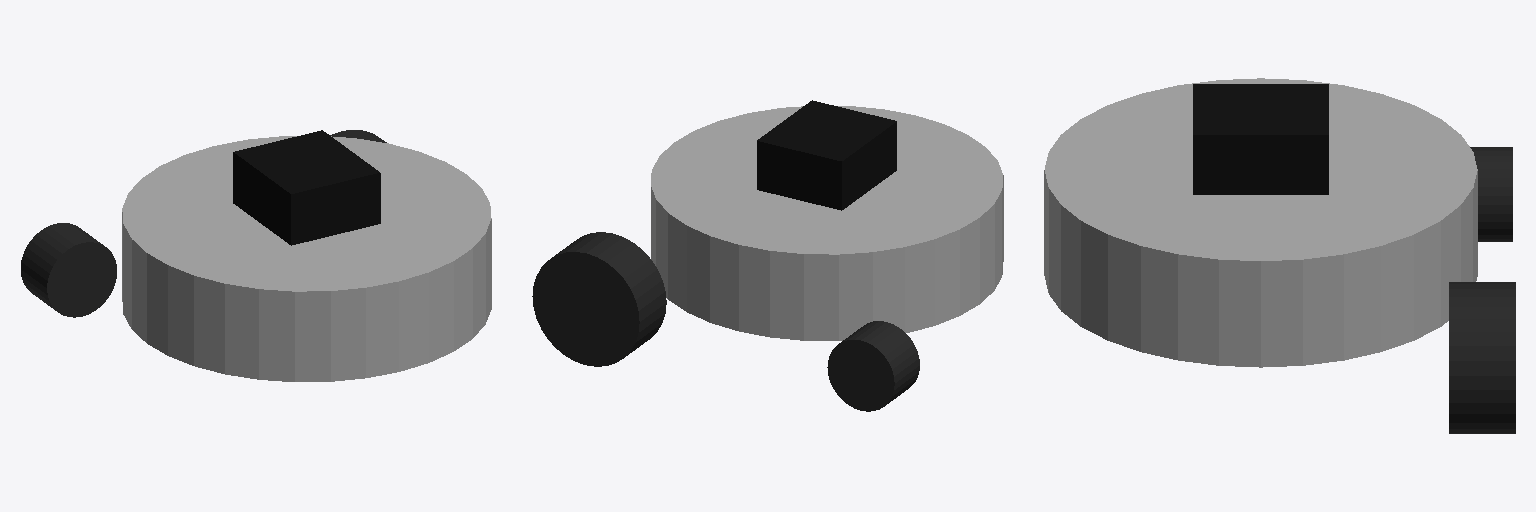
URDF robot description (evolved_robot):
<?xml version="1.0"?>
<robot name="evolved_robot">
  <material name="metal">
    <color rgba="0.7 0.7 0.7 1.0"/>
  </material>
  <material name="plastic">
    <color rgba="0.3 0.3 0.9 1.0"/>
  </material>
  <material name="rubber">
    <color rgba="0.1 0.1 0.1 1.0"/>
  </material>
  <material name="red">
    <color rgba="1.0 0.0 0.0 1.0"/>
  </material>
  <material name="wheel_material">
    <color rgba="0.2 0.2 0.2 1.0"/>
  </material>
  <link name="base_link">
    <visual>
      <geometry><cylinder radius="0.24047146738611977" length="0.1301065557292387"/></geometry>
      <material name="metal"/>
    </visual>
    <collision>
      <geometry><cylinder radius="0.24047146738611977" length="0.1301065557292387"/></geometry>
    </collision>
    <inertial>
      <mass value="5.0"/>
      <inertia ixx="0.1586727464368554" ixy="0" ixz="0" 
               iyy="0.1586727464368554" iyz="0" 
               izz="0.2891326331341683"/>
    </inertial>
  </link>
  <link name="link1">
    <visual>
      <geometry><box size="0.13418867020242448 0.15060253068151586 0.14734954374294912"/></geometry>
      <material name="rubber"/>
    </visual>
    <collision>
      <geometry><box size="0.13418867020242448 0.15060253068151586 0.14734954374294912"/></geometry>
    </collision>
    <inertial>
      <mass value="0.5"/>
      <inertia ixx="0.0036994175240776836" ixy="0" ixz="0" 
               iyy="0.0033098739376625267" iyz="0" 
               izz="0.0033906434548643307"/>
    </inertial>
  </link>
  <joint name="joint1" type="fixed">
    <parent link="base_link"/>
    <child link="link1"/>
    <origin xyz="0 0 0.06505327786461935" rpy="0 0 0"/>
    <axis xyz="-0.35727440947117334 0.9327201935862031 0.048867543559506954"/>
    <dynamics damping="0.1029057953056492" friction="0.1"/>
  </joint>
  <link name="link2">
    <visual>
      <geometry>
        <cylinder radius="0.08411760931171484" length="0.07361360930740203"/>
      </geometry>
      <material name="wheel_material"/>
    </visual>
    <collision>
      <geometry>
        <cylinder radius="0.08411760931171484" length="0.07361360930740203"/>
      </geometry>
    </collision>
    <inertial>
      <mass value="1.0"/>
      <inertia ixx="0.0022205233386848097" ixy="0" ixz="0" 
               iyy="0.0022205233386848097" iyz="0" 
               izz="0.003537886098159148"/>
    </inertial>
  </link>
  <joint name="joint2" type="floating">
    <parent link="base_link"/>
    <child link="link2"/>
    <origin xyz="0.21524329800132383 0.24569963677091572 -0.06505327786461935" rpy="1.5708 0 0"/>
    <axis xyz="0 1 0"/>
    <dynamics damping="0.13317693757816318" friction="0.1"/>
  </joint>
  <link name="link3">
    <visual>
      <geometry>
        <cylinder radius="0.05278188144654643" length="0.06902675987666469"/>
      </geometry>
      <material name="wheel_material"/>
    </visual>
    <collision>
      <geometry>
        <cylinder radius="0.05278188144654643" length="0.06902675987666469"/>
      </geometry>
    </collision>
    <inertial>
      <mass value="1.0"/>
      <inertia ixx="0.0010935395505152143" ixy="0" ixz="0" 
               iyy="0.0010935395505152143" iyz="0" 
               izz="0.001392963504518641"/>
    </inertial>
  </link>
  <joint name="joint3" type="prismatic">
    <parent link="base_link"/>
    <child link="link3"/>
    <origin xyz="-0.21524329800132383 0.24569963677091572 -0.06505327786461935" rpy="1.5708 0 0"/>
    <axis xyz="0 1 0"/>
    <dynamics damping="0.8843240228193913" friction="0.1"/>
  </joint>
</robot>

--- Facts derived from the render (not from the file) ---
The picture shows the robot from 3 angles, left to right: view 1: azimuth 30°, elevation 25°; view 2: azimuth 150°, elevation 25°; view 3: azimuth 270°, elevation 25°; orthographic projection.
Model evolved_robot with 4 links and 3 joints (1 prismatic, 1 fixed, 1 floating), rooted at base_link, posed all joints at 0.
Visible links, largest first — view 1: base_link, link1, link3; view 2: base_link, link2, link1, link3; view 3: base_link, link1, link2, link3.
Boxes of the visible links, x1=… form: base_link: x1=122, y1=136, x2=491, y2=381; link1: x1=233, y1=130, x2=380, y2=245; link3: x1=21, y1=223, x2=116, y2=317; base_link: x1=651, y1=106, x2=1003, y2=340; link2: x1=532, y1=232, x2=666, y2=366; link1: x1=757, y1=100, x2=896, y2=210; link3: x1=827, y1=321, x2=919, y2=411; base_link: x1=1044, y1=78, x2=1477, y2=367; link1: x1=1193, y1=84, x2=1328, y2=194; link2: x1=1449, y1=282, x2=1515, y2=433; link3: x1=1470, y1=147, x2=1512, y2=241.
Size in the robot's own frame: 0.5674 by 0.523 by 0.2879 metres.
Geometry: primitives only (box / cylinder / sphere), no mesh files.